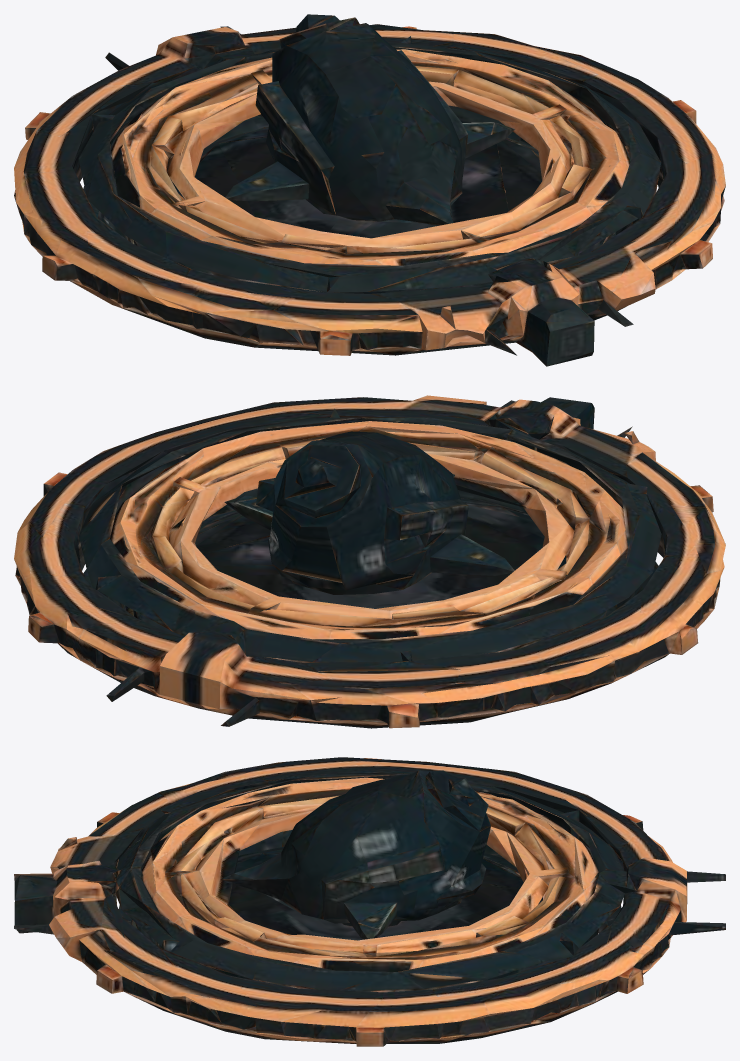
Rendered from nation-o-cruiser.glb.
3 views of the same model, one above another, from view 1: azimuth 30°, elevation 25°; view 2: azimuth 150°, elevation 25°; view 3: azimuth 270°, elevation 25° (orthographic). The views are drawn at different scales.
Bounding box in the file's own units: 1.73 × 0.4788 × 1.9.
Materials: 1 (1 with a texture image).
